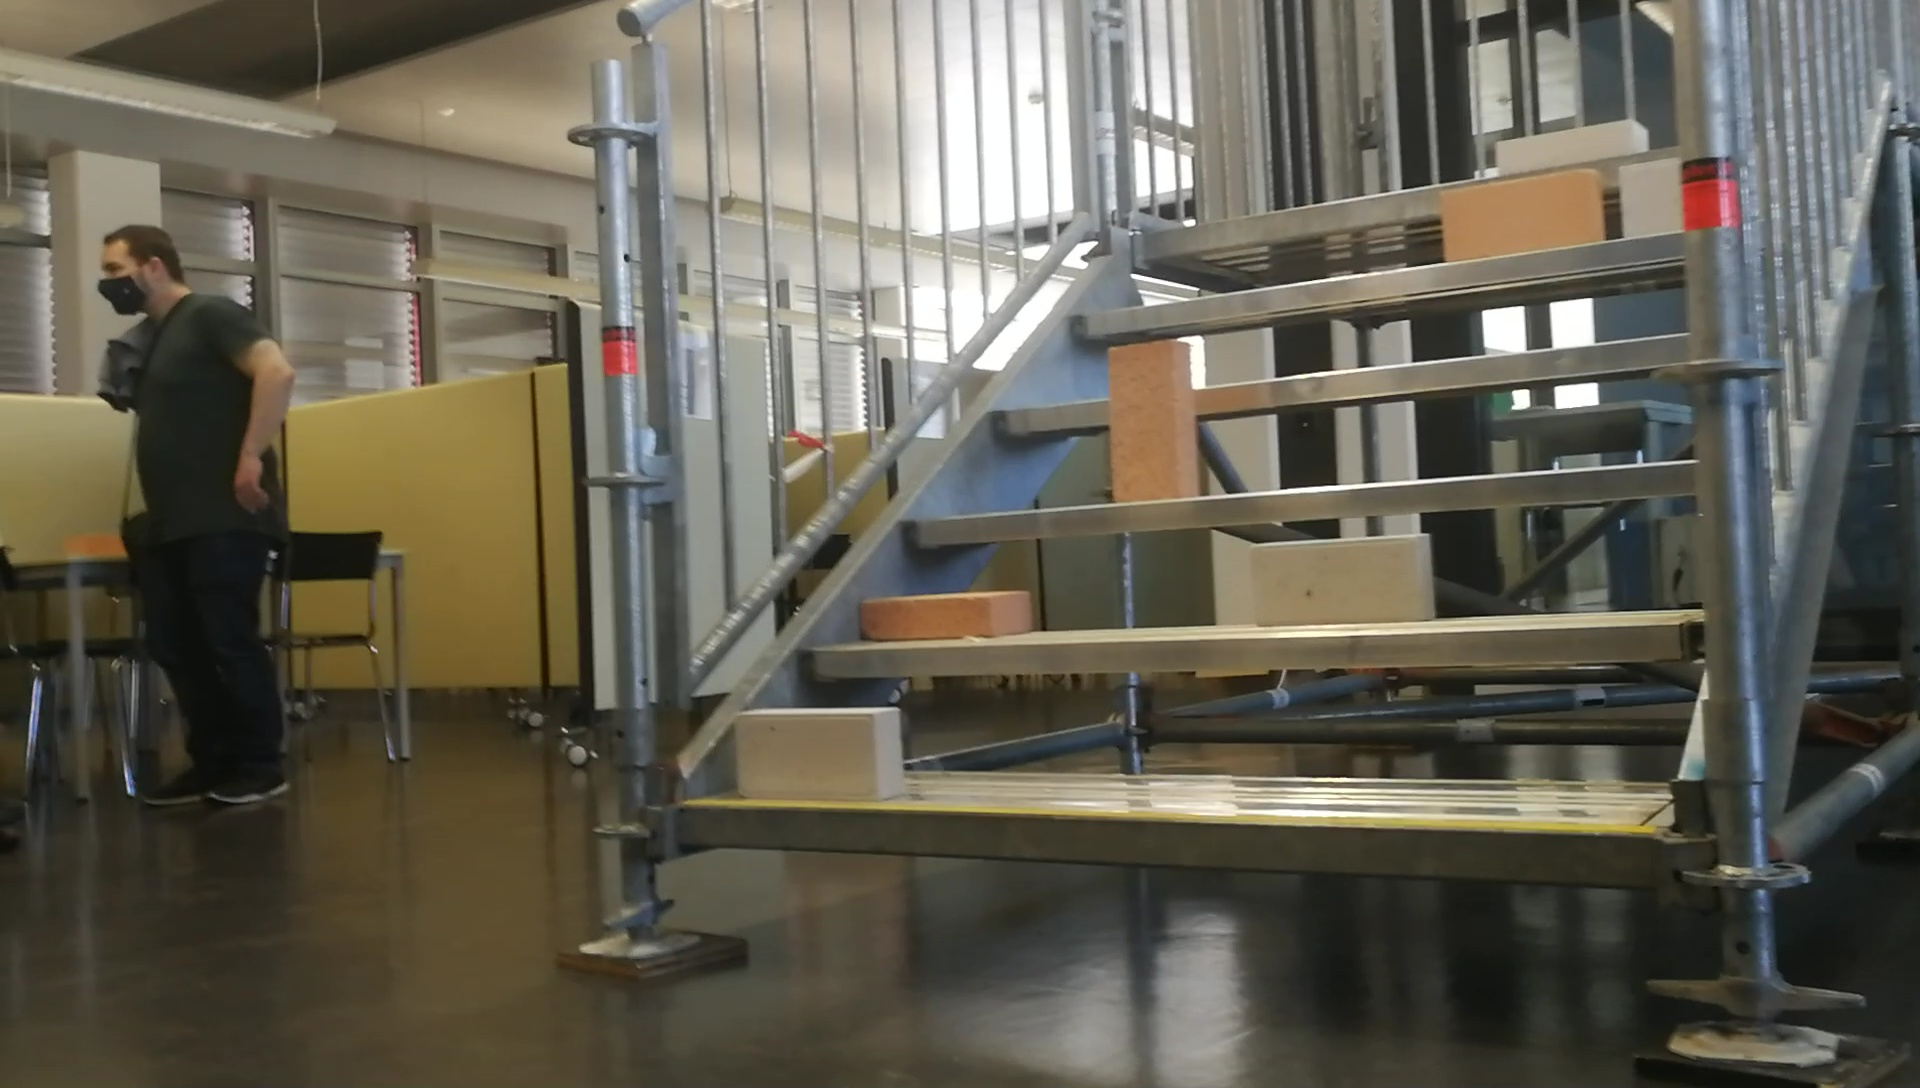brick: (736, 706, 902, 803), (1258, 538, 1428, 622), (1445, 170, 1601, 260), (1112, 343, 1189, 502), (862, 592, 1027, 636), (1498, 120, 1647, 162), (1622, 160, 1680, 235)
edge: (673, 801, 1672, 888), (986, 328, 1688, 430), (899, 458, 1700, 541), (1063, 235, 1688, 330), (799, 622, 1708, 673)
stairs: (553, 5, 1778, 1079)
